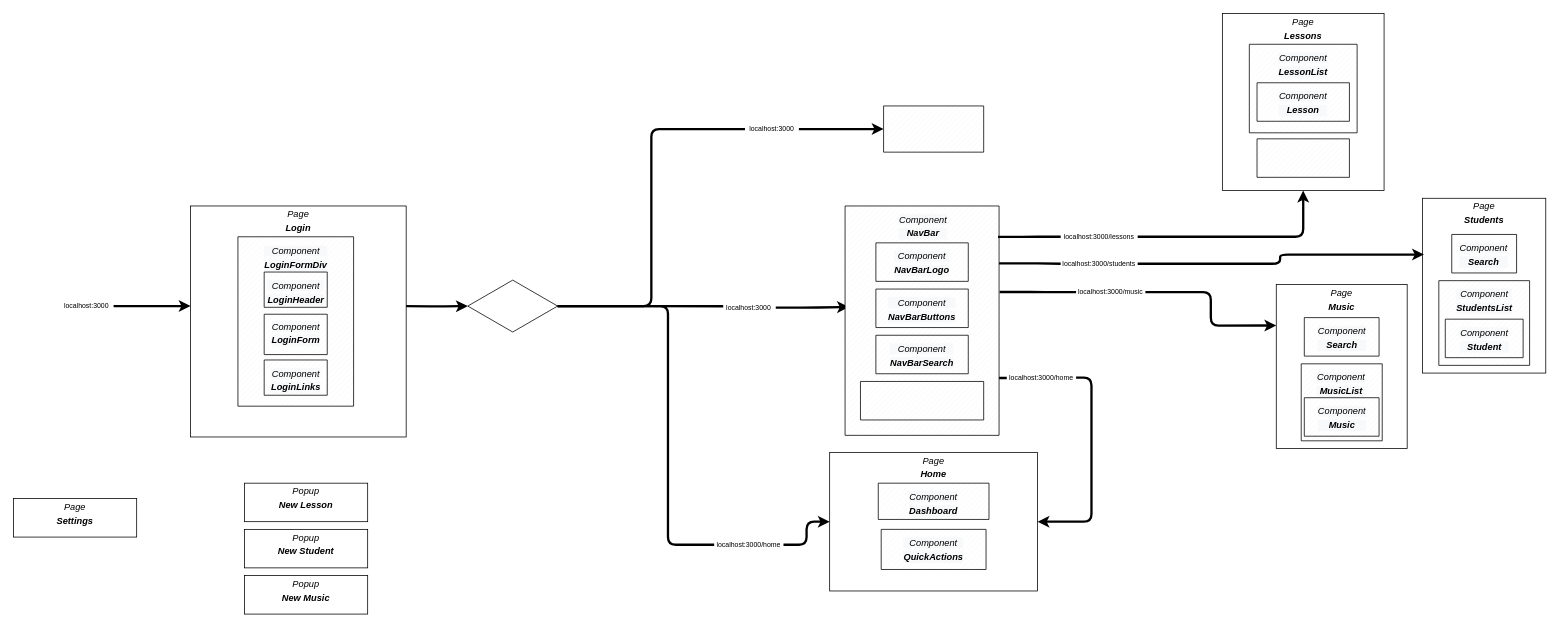
Some shapes in this 1559 by 628 pixel diagram are drawn without their labels. The centre of each missing label's shape, as x and y in pixels:
"Component Calendar" goes at (x=1302, y=157).
"Component NavBarAccountButtons" goes at (x=922, y=400).
"Component NewItem" goes at (x=933, y=128).
"Function handleLogin" goes at (x=512, y=305).
